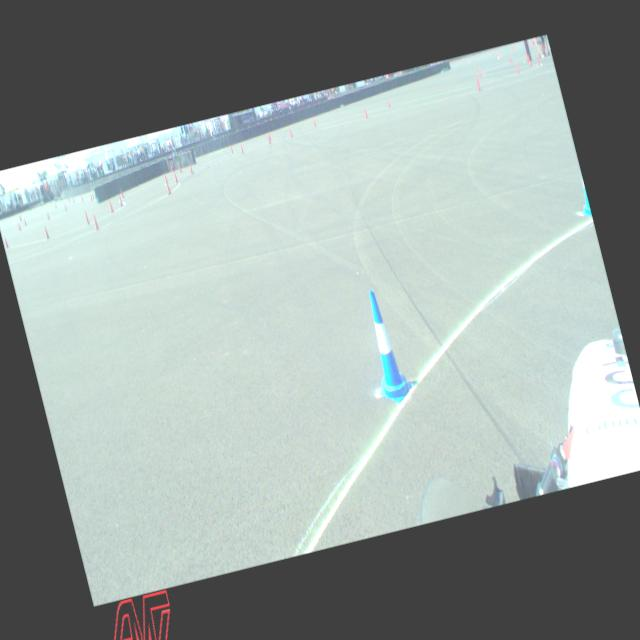blue_cone: (354, 284, 416, 408), (572, 171, 592, 218)
unknown_cone: (91, 212, 100, 230), (474, 72, 482, 92), (42, 223, 51, 239), (164, 178, 172, 194), (2, 234, 10, 248), (83, 209, 90, 225), (172, 168, 179, 184), (117, 192, 124, 207), (107, 198, 114, 212), (168, 158, 175, 171), (362, 106, 368, 119), (188, 162, 194, 174), (526, 54, 532, 66), (162, 172, 168, 184), (119, 186, 125, 198), (514, 60, 519, 74), (535, 52, 540, 66), (266, 133, 272, 144), (266, 130, 272, 141), (288, 126, 293, 138), (239, 143, 244, 154), (229, 143, 234, 154), (477, 66, 482, 76), (17, 221, 22, 231), (45, 210, 50, 220), (386, 95, 390, 107), (178, 163, 182, 174), (90, 189, 94, 200), (508, 52, 512, 62), (312, 117, 316, 127), (23, 216, 27, 226), (89, 192, 93, 202), (63, 202, 67, 211), (80, 194, 84, 202), (54, 202, 57, 208), (72, 195, 74, 203)
